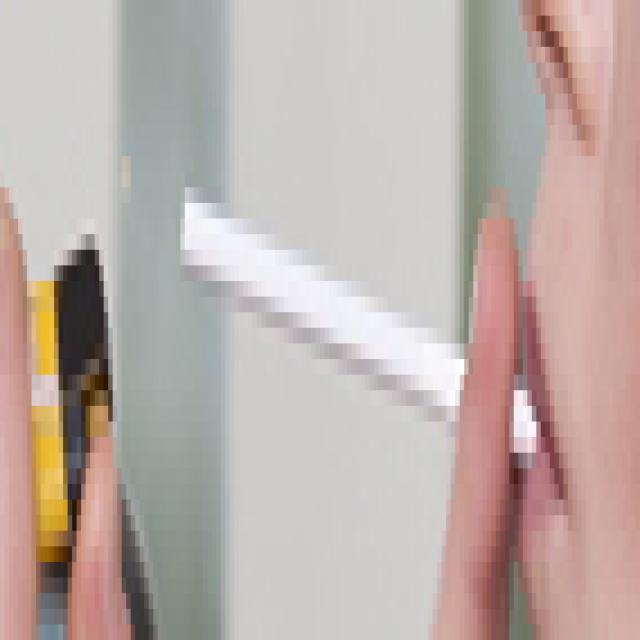smoking: (181, 186, 540, 465)
